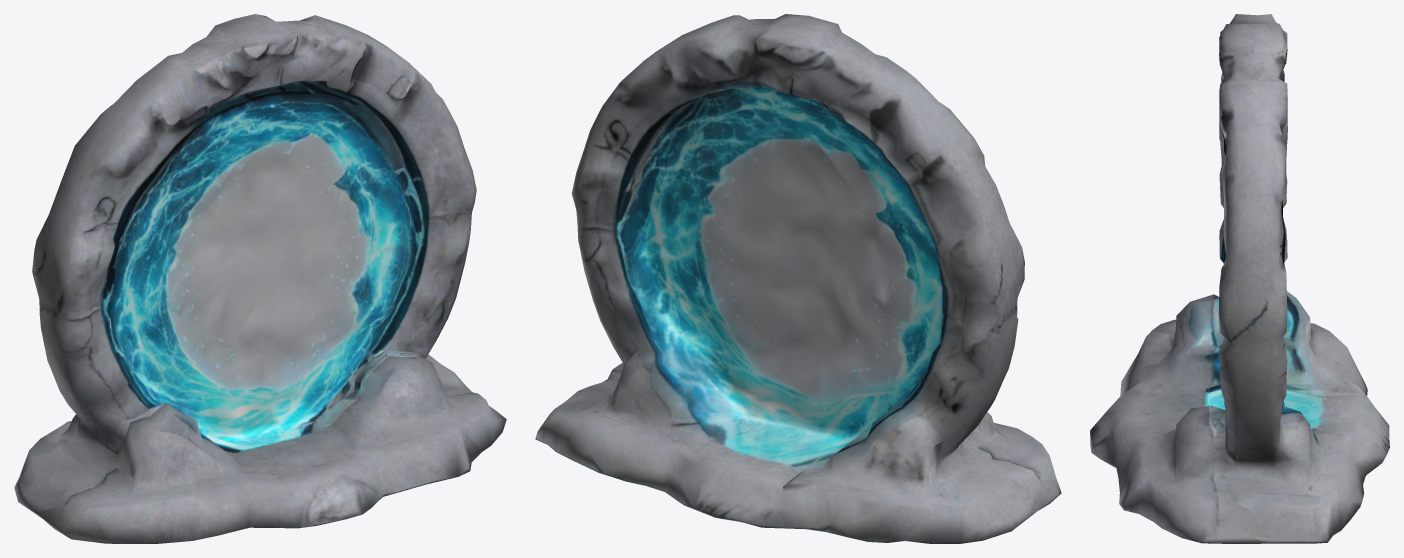
Rendered from testGateway.glb.
3 renders of one model, left to right at view 1: azimuth 30°, elevation 25°; view 2: azimuth 150°, elevation 25°; view 3: azimuth 270°, elevation 25°, orthographic. The views are drawn at different scales.
Visible parts, largest first — view 1: Mesh_0; view 2: Mesh_0; view 3: Mesh_0.
Boxes of the visible parts, x1,y1,x2,y2 form: Mesh_0: (14,14,506,543); Mesh_0: (535,14,1061,543); Mesh_0: (1090,14,1389,543).
Bounding box in the file's own units: 1.09 × 1 × 0.6622.
1 material, 1 textured.
